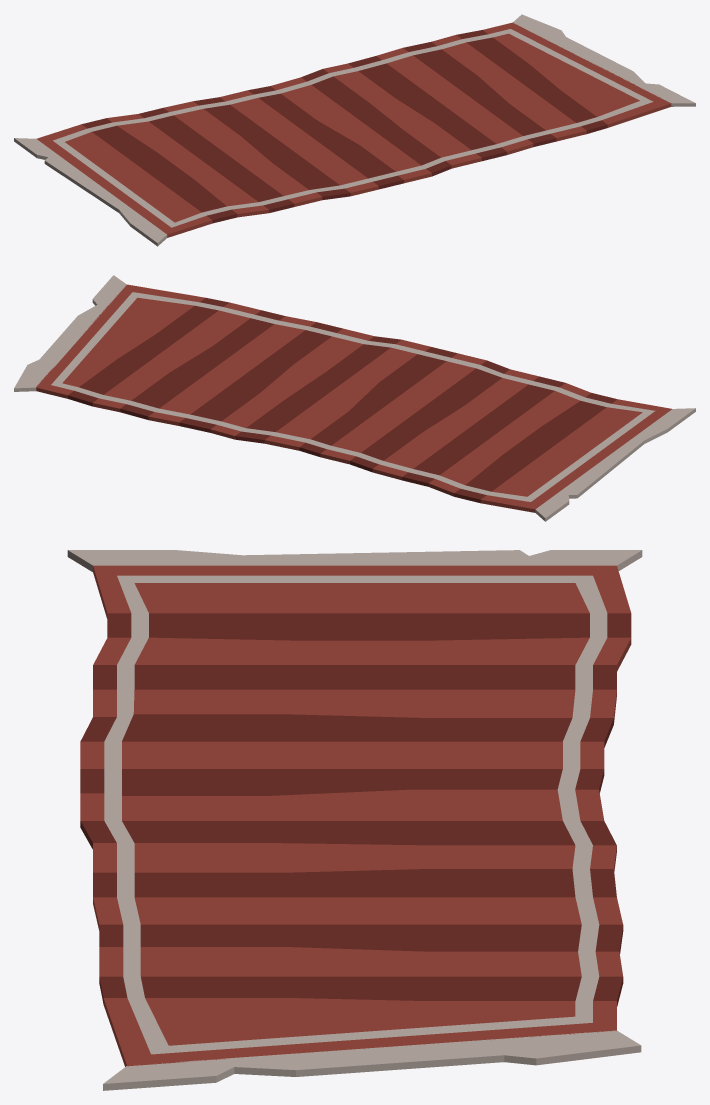
File: SM_Carpet_B.fbx
3 views of the same model, one above another, from view 1: azimuth 30°, elevation 25°; view 2: azimuth 150°, elevation 25°; view 3: azimuth 270°, elevation 25° (orthographic). The views are drawn at different scales.
Visible parts, largest first — view 1: SM_Carpet_B; view 2: SM_Carpet_B; view 3: SM_Carpet_B.
Part boxes in pixels (x1,y1,x2,y2): SM_Carpet_B: (14, 14, 695, 246); SM_Carpet_B: (14, 275, 695, 521); SM_Carpet_B: (67, 550, 642, 1090).
Size of the model in its own units: 294 by 1.77 by 134.
